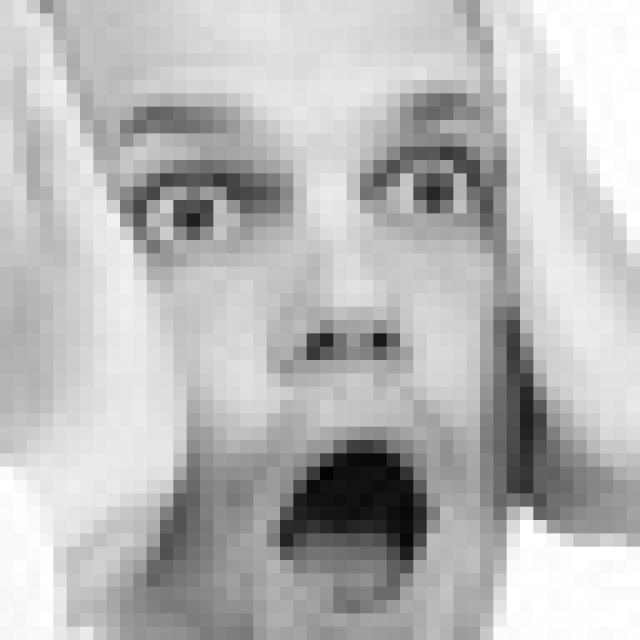surprise: (125, 83, 502, 640)
